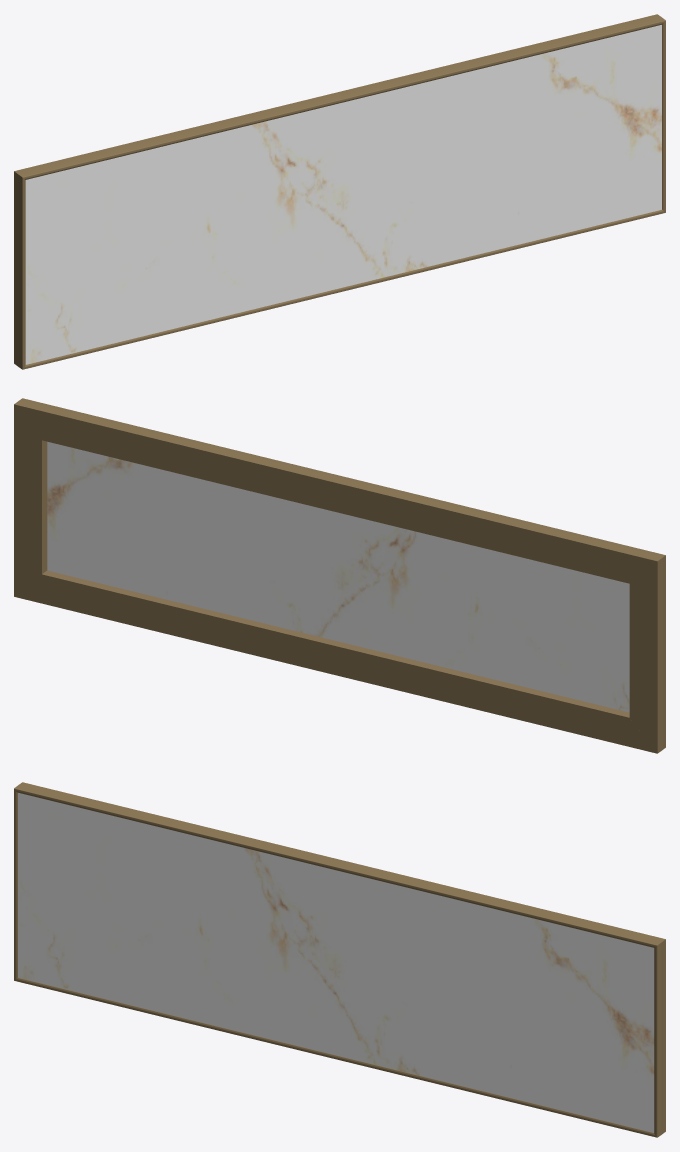
The model's file is RFP-1050-300-15.glb.
The picture shows the model from 3 angles, top to bottom: view 1: azimuth 30°, elevation 25°; view 2: azimuth 150°, elevation 25°; view 3: azimuth 330°, elevation 25°; orthographic projection.
Parts seen in each view (by area): view 1: Object_node, Extrusion, Extrusion_node_0, Extrusion_node_1, Extrusion_node; view 2: Object_node, Extrusion, Extrusion_node_0, Extrusion_node_1, Extrusion_node; view 3: Object_node, Extrusion, Extrusion_node_0, Extrusion_node, Extrusion_node_1.
Part boxes in pixels (left/top/right/bottom): Object_node: left=25, top=25, right=661, bottom=364; Extrusion: left=14, top=14, right=665, bottom=179; Extrusion_node_0: left=23, top=210, right=665, bottom=369; Extrusion_node_1: left=14, top=171, right=25, bottom=369; Extrusion_node: left=662, top=21, right=665, bottom=212; Object_node: left=47, top=441, right=629, bottom=712; Extrusion: left=14, top=398, right=665, bottom=583; Extrusion_node_0: left=14, top=570, right=656, bottom=753; Extrusion_node_1: left=629, top=555, right=665, bottom=753; Extrusion_node: left=14, top=405, right=47, bottom=596; Object_node: left=18, top=793, right=654, bottom=1132; Extrusion: left=14, top=782, right=665, bottom=947; Extrusion_node_0: left=14, top=978, right=656, bottom=1137; Extrusion_node: left=654, top=939, right=665, bottom=1137; Extrusion_node_1: left=14, top=789, right=17, bottom=980.
Size of the model in its own units: 1.05 by 0.3 by 0.0242.
Materials: 2 (1 with a texture image).
